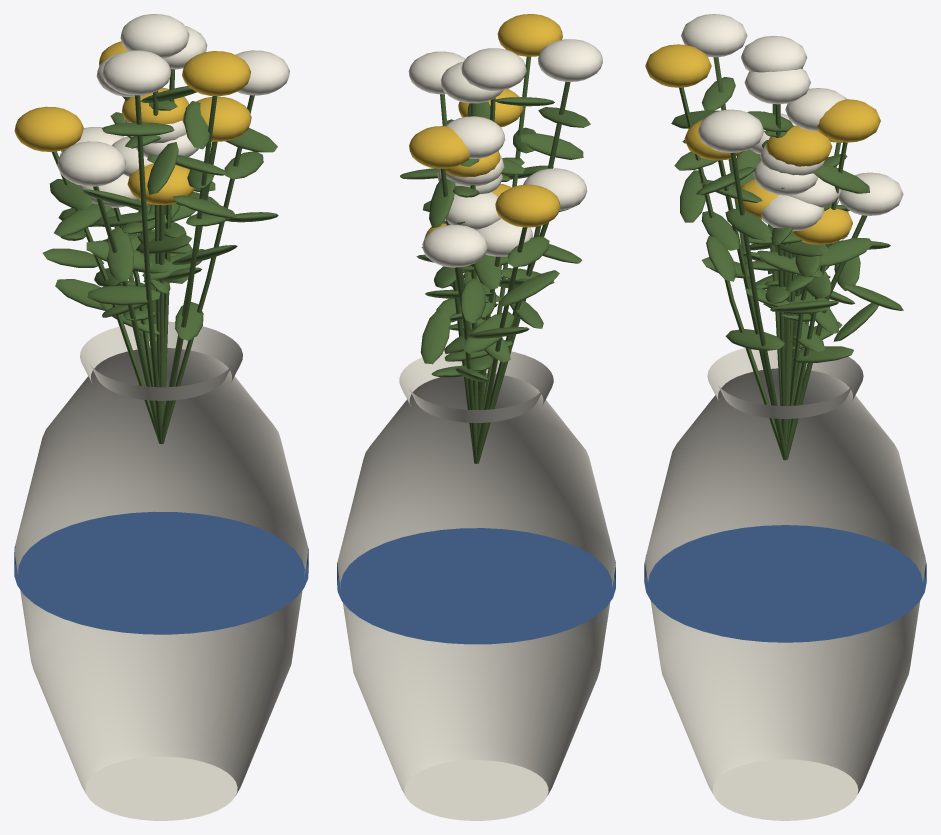
The model's file is BinhHoaLon_Gom.glb.
3 renders of one model, left to right at view 1: azimuth 30°, elevation 25°; view 2: azimuth 150°, elevation 25°; view 3: azimuth 270°, elevation 25°, orthographic. The views are drawn at different scales.
Visible parts, largest first — view 1: BinhHoaLon_Gom; view 2: BinhHoaLon_Gom; view 3: BinhHoaLon_Gom.
Boxes of the visible parts, left/top/right/bottom form: BinhHoaLon_Gom: left=14, top=14, right=308, bottom=820; BinhHoaLon_Gom: left=337, top=14, right=615, bottom=820; BinhHoaLon_Gom: left=644, top=14, right=926, bottom=820.
Bounding box in the file's own units: 0.271 × 0.7879 × 0.271.
